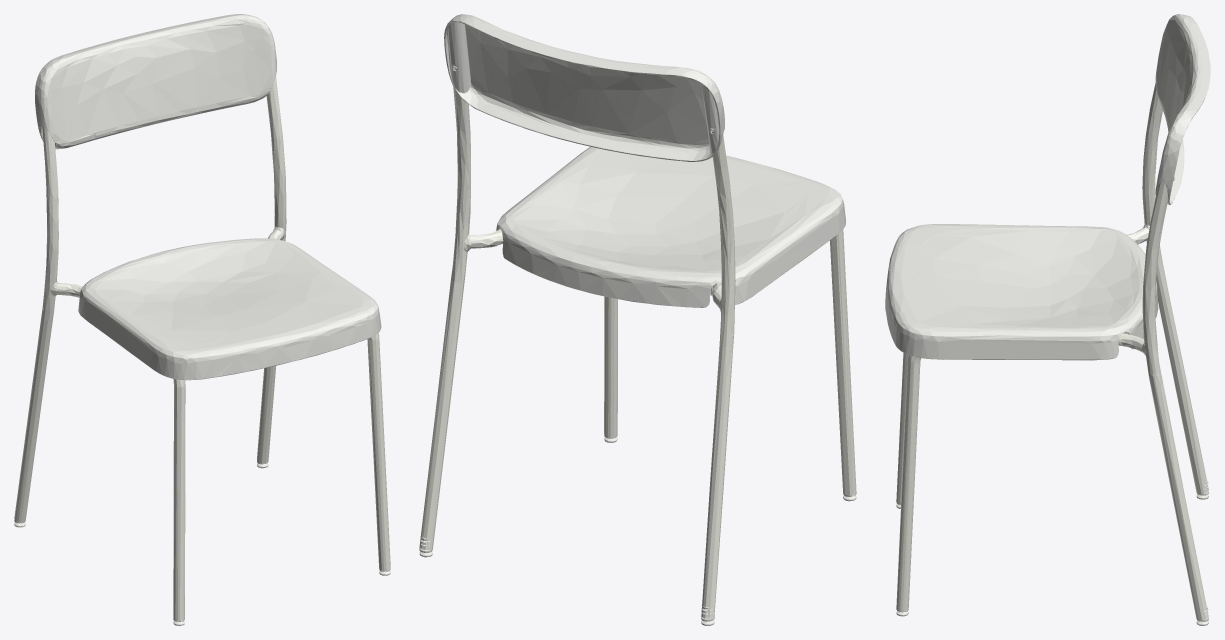
3 views of the same model, side by side, from view 1: azimuth 30°, elevation 25°; view 2: azimuth 150°, elevation 25°; view 3: azimuth 270°, elevation 25° (orthographic). The views are drawn at different scales.
Parts seen in each view (by area): view 1: ASY_ART_50569103_S01_NV01_NODE_ID_a0d7fe30-9a2c-460c-b9cd-84; view 2: ASY_ART_50569103_S01_NV01_NODE_ID_a0d7fe30-9a2c-460c-b9cd-84; view 3: ASY_ART_50569103_S01_NV01_NODE_ID_a0d7fe30-9a2c-460c-b9cd-84.
Boxes of the visible parts, x1,y1,x2,y2 form: ASY_ART_50569103_S01_NV01_NODE_ID_a0d7fe30-9a2c-460c-b9cd-84: (14,14,390,625); ASY_ART_50569103_S01_NV01_NODE_ID_a0d7fe30-9a2c-460c-b9cd-84: (419,14,856,625); ASY_ART_50569103_S01_NV01_NODE_ID_a0d7fe30-9a2c-460c-b9cd-84: (885,14,1210,625).
Bounding box in the file's own units: 0.45 × 0.79 × 0.47.
Materials: 1 (1 with a texture image).
